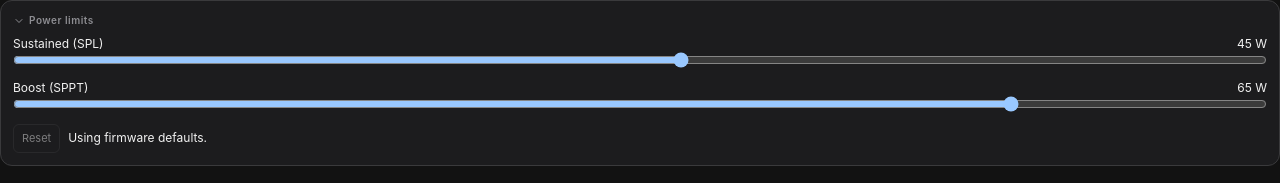
writes once on release and keeps boost at or above sustained
Set the slider labelled "Sustained (SPL)" to "70": (1094, 60) [13,52,1267,68]
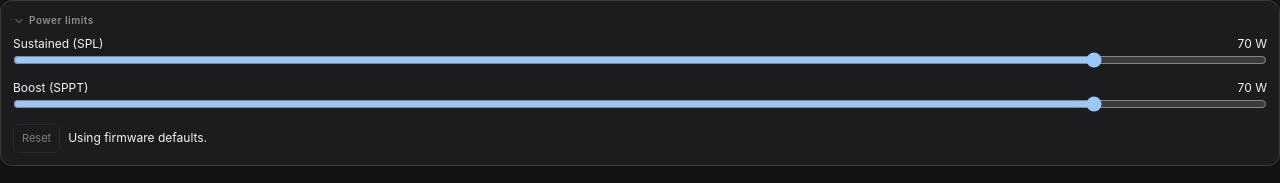
Set the slider labelled "Sustained (SPL)" to "75": (1176, 60) [13,52,1267,68]
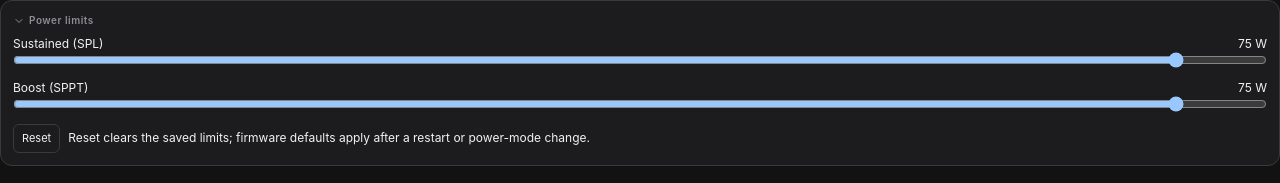
Now the slider labelled "Boost (SPPT)" holds "75", box [13,96,1267,112]
